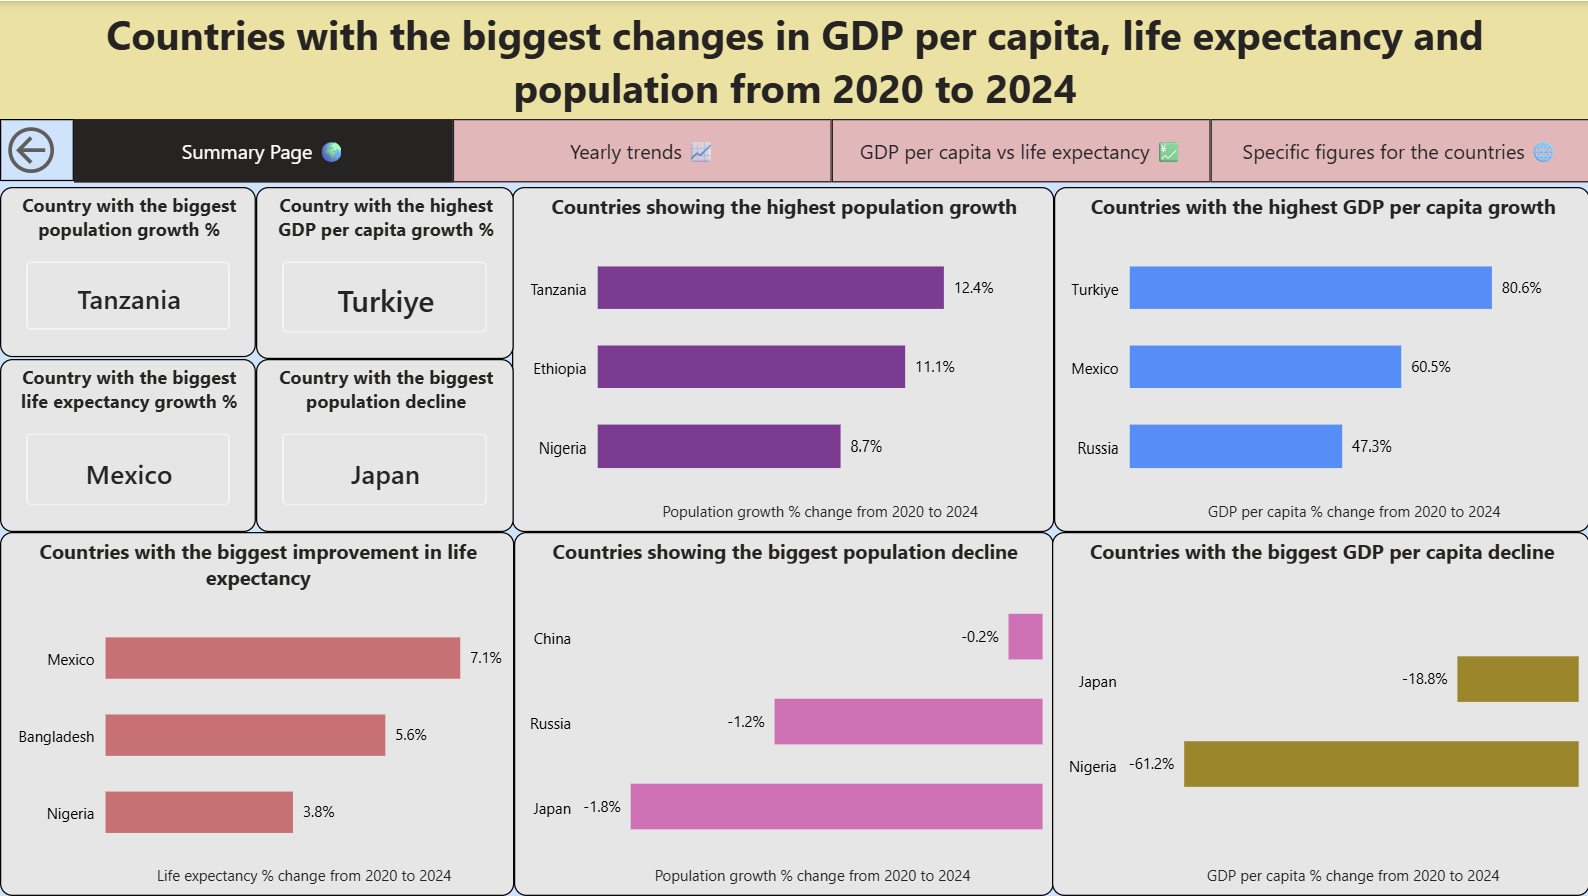

Layout of this report page (visuals, bound fields, positions):
{"tool":"powerbi","page":{"name":"Summary Page 🌍","canvas":[1280,720],"ordinal":1},"visuals":[{"type":"clusteredBarChart","title":"Top 3 countries with the highest GDP per capita growth","fields":{"Category":["MARTS_GDP_PER_CAPITA_FINAL.COUNTRY"],"Y":["Sum(MARTS_GDP_PER_CAPITA_FINAL.GDP per capita growth 2020 to 2024)"]},"box":[626.7,429.3,653.3,293],"z":0},{"type":"clusteredBarChart","title":"Top 3 countries with the biggest improvement in life expectancy","fields":{"Y":["Sum(MARTS_LIFE_EXPECTANCY_FINAL.Life expectancy 2020 to 2024)"],"Category":["MARTS_LIFE_EXPECTANCY_FINAL.COUNTRY"]},"box":[0,429.3,626.7,293],"z":1000},{"type":"clusteredBarChart","title":"Top 3 countries showing the highest population growth","fields":{"Category":["MARTS_POPULATIONS_FINAL.COUNTRY"],"Y":["Sum(MARTS_POPULATIONS_FINAL.Population growth 2020 to 2024)"]},"box":[625.1,147.3,654.9,285.1],"z":2000},{"type":"cardVisual","title":"Country with the biggest improvement in life expectancy ","fields":{"Data":["Key measures.Country with the biggest improvement in life expectancy"]},"box":[0,289.8,308.6,141],"z":3000},{"type":"cardVisual","title":"Country with the highest GDP per capita growth %","fields":{"Data":["Key measures.Country with the highest GDP % growth"]},"box":[308.6,145.7,318,142.6],"z":4000},{"type":"cardVisual","title":"Country with the biggest population decline","fields":{"Data":["Key measures.Country with the biggest population decline"]},"box":[308.6,289.8,319.6,141],"z":5000},{"type":"cardVisual","title":"Country with the biggest population growth %","fields":{"Data":["Key measures.Country with the biggest population growth"]},"box":[0,145.7,308.6,144.1],"z":6000},{"type":"textbox","box":[0,0,1280,95.6],"z":7000},{"type":"pageNavigator","box":[59.5,95.6,1220.5,51.7],"z":8000},{"type":"actionButton","box":[0,95.6,59.5,50.1],"z":9000}]}

Visuals, with their boxes in screenshot pixels (x1, y1, x2, y2), scaled from the page's 1280x720 canvas onto the 1588x896 screenshot:
"Top 3 countries with the highest GDP per capita growth" clusteredBarChart: {"x1": 777, "y1": 534, "x2": 1587, "y2": 895}
"Top 3 countries with the biggest improvement in life expectancy" clusteredBarChart: {"x1": 0, "y1": 534, "x2": 777, "y2": 895}
"Top 3 countries showing the highest population growth" clusteredBarChart: {"x1": 776, "y1": 183, "x2": 1587, "y2": 538}
"Country with the biggest improvement in life expectancy " cardVisual: {"x1": 0, "y1": 361, "x2": 383, "y2": 536}
"Country with the highest GDP per capita growth %" cardVisual: {"x1": 383, "y1": 181, "x2": 777, "y2": 359}
"Country with the biggest population decline" cardVisual: {"x1": 383, "y1": 361, "x2": 779, "y2": 536}
"Country with the biggest population growth %" cardVisual: {"x1": 0, "y1": 181, "x2": 383, "y2": 361}
textbox: {"x1": 0, "y1": 0, "x2": 1587, "y2": 119}
pageNavigator: {"x1": 74, "y1": 119, "x2": 1587, "y2": 183}
actionButton: {"x1": 0, "y1": 119, "x2": 74, "y2": 181}
